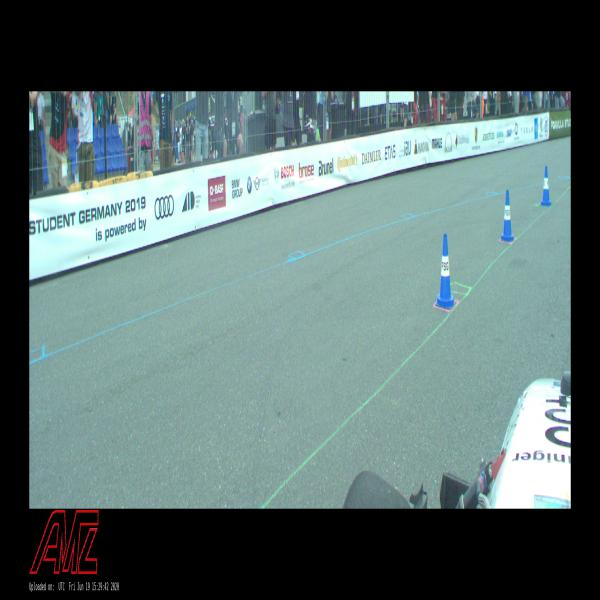blue_cone: (435, 234, 456, 309), (500, 190, 515, 242), (540, 166, 552, 207)
